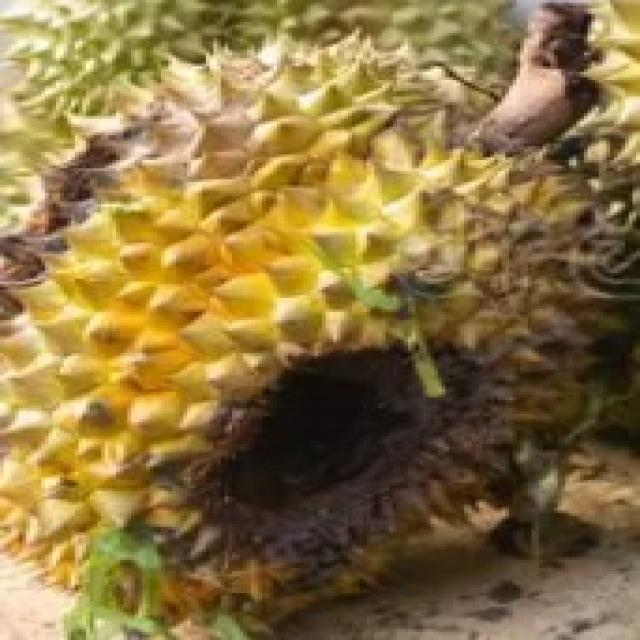defective: (0, 65, 640, 617)
